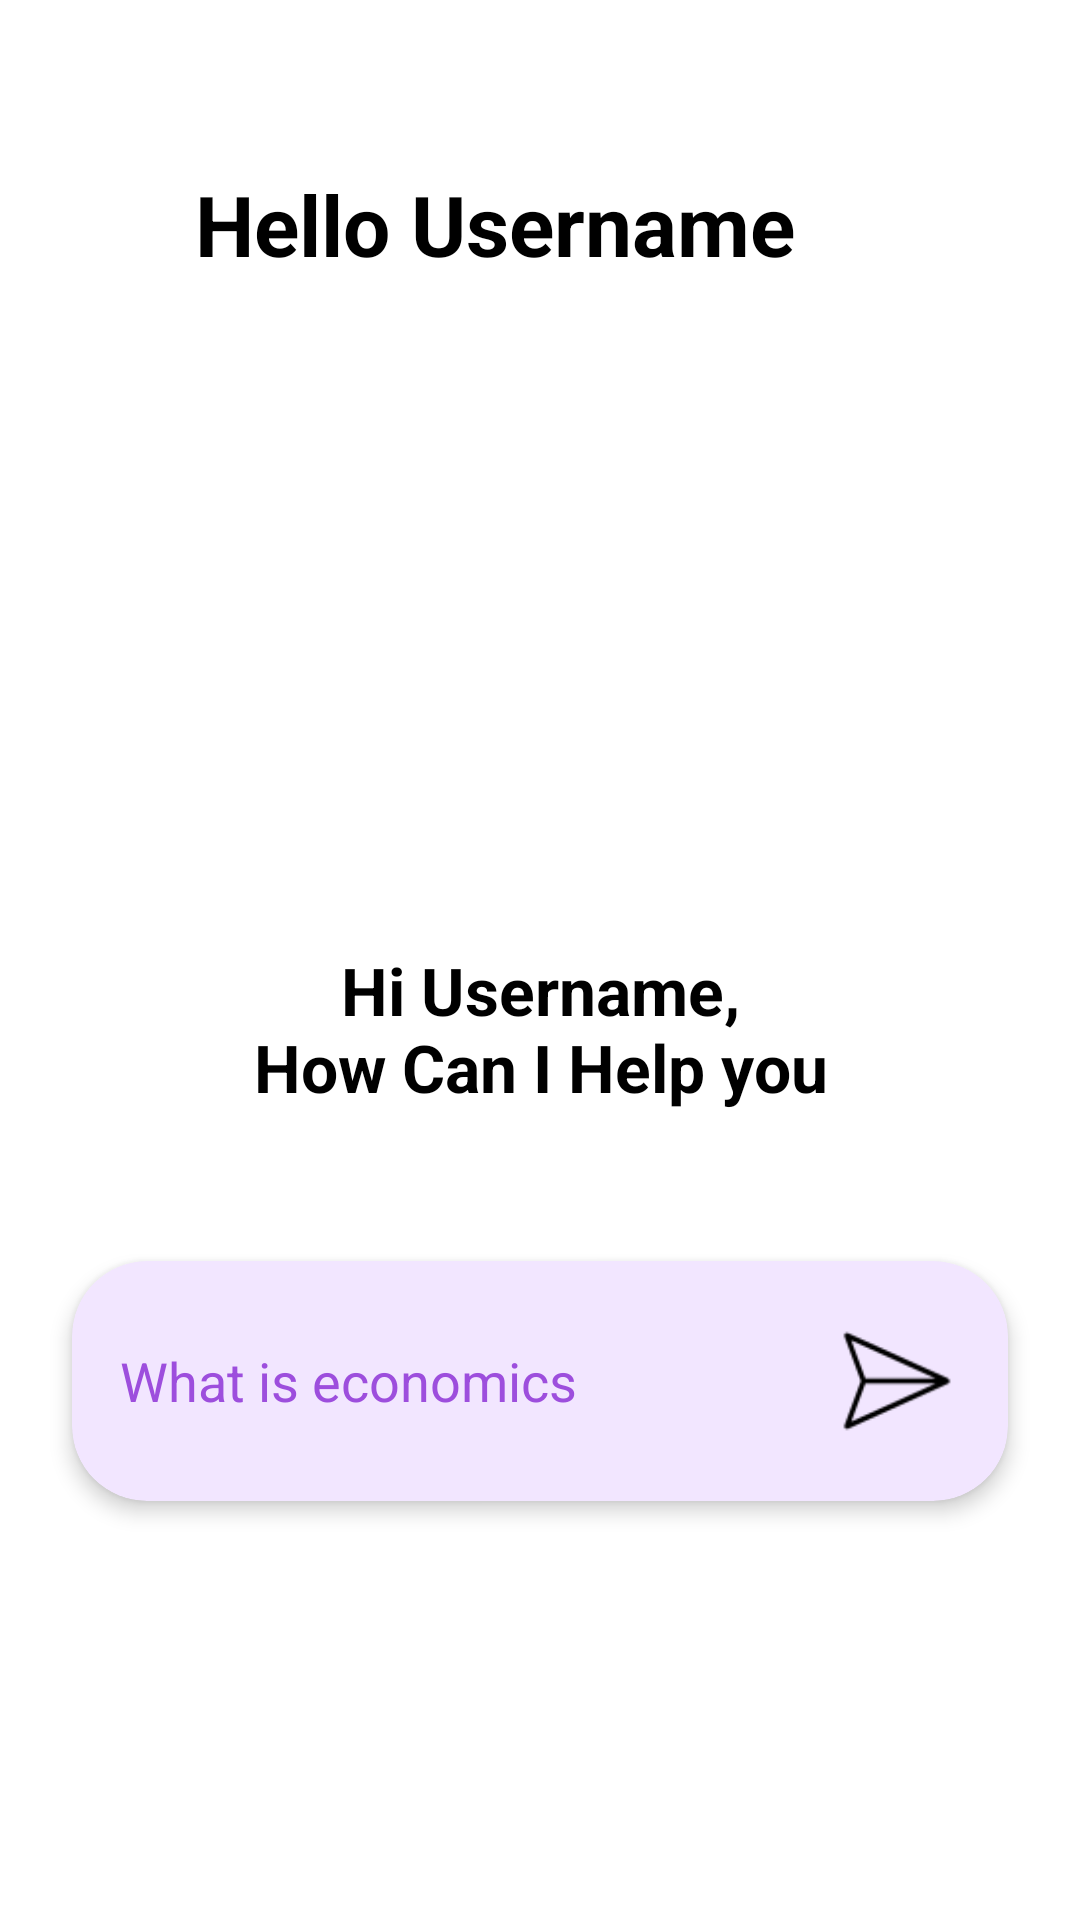

Icon bounding boxes for this 1080 × 1920 phone screenshot, format (x1,y1,x2,y2):
sendbtn: (843,1331,951,1430)
